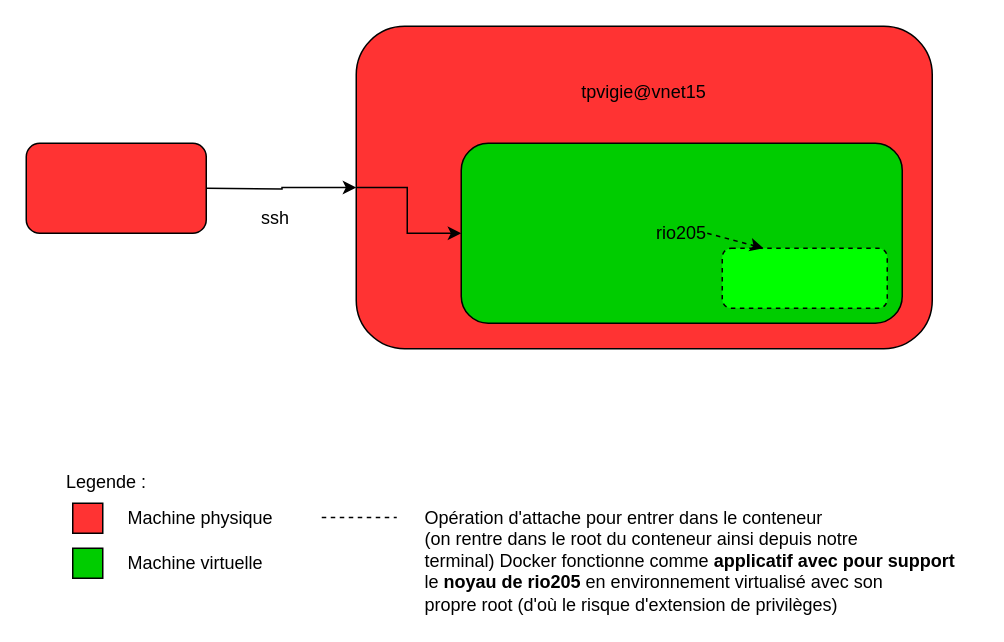
This 1004x642 diagram has some shape labels left out. The centre of each missing label's shape, as x and y in pixels:
"c132" goes at [115,187].
"Conteneur docker" goes at [804,277].
